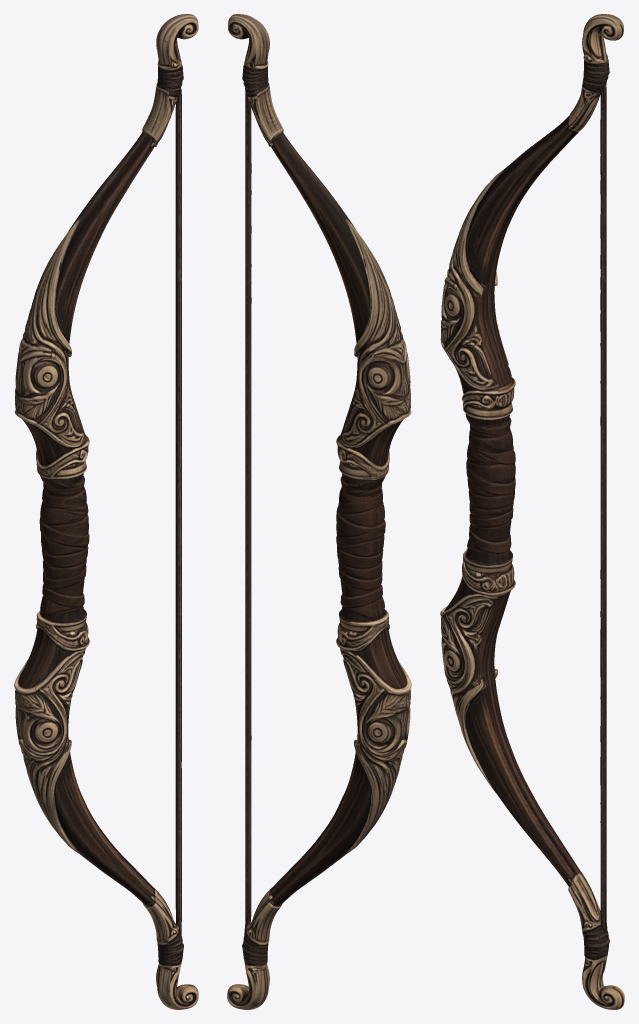
The model's file is bow.glb.
The picture shows the model from 3 angles, left to right: view 1: azimuth 30°, elevation 25°; view 2: azimuth 150°, elevation 25°; view 3: azimuth 330°, elevation 25°; orthographic projection.
Bounding box in the file's own units: 0.3634 × 1.9 × 0.0923.
Materials: 1 (1 with a texture image).
